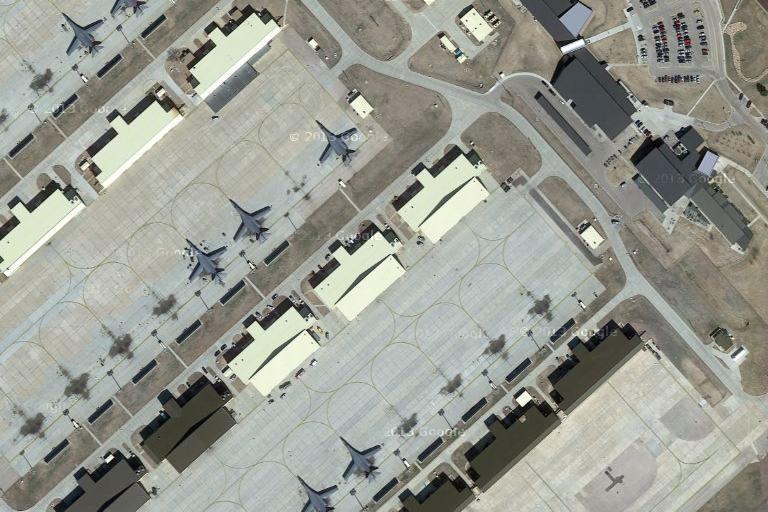B-1B: (59, 11, 106, 58), (314, 118, 358, 168), (229, 198, 273, 248), (338, 435, 383, 483), (185, 238, 229, 287), (293, 472, 341, 512)
